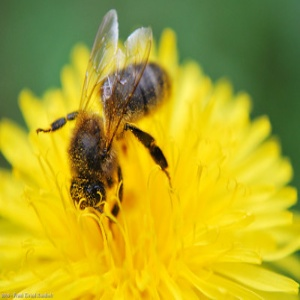bee: (37, 10, 175, 234)
